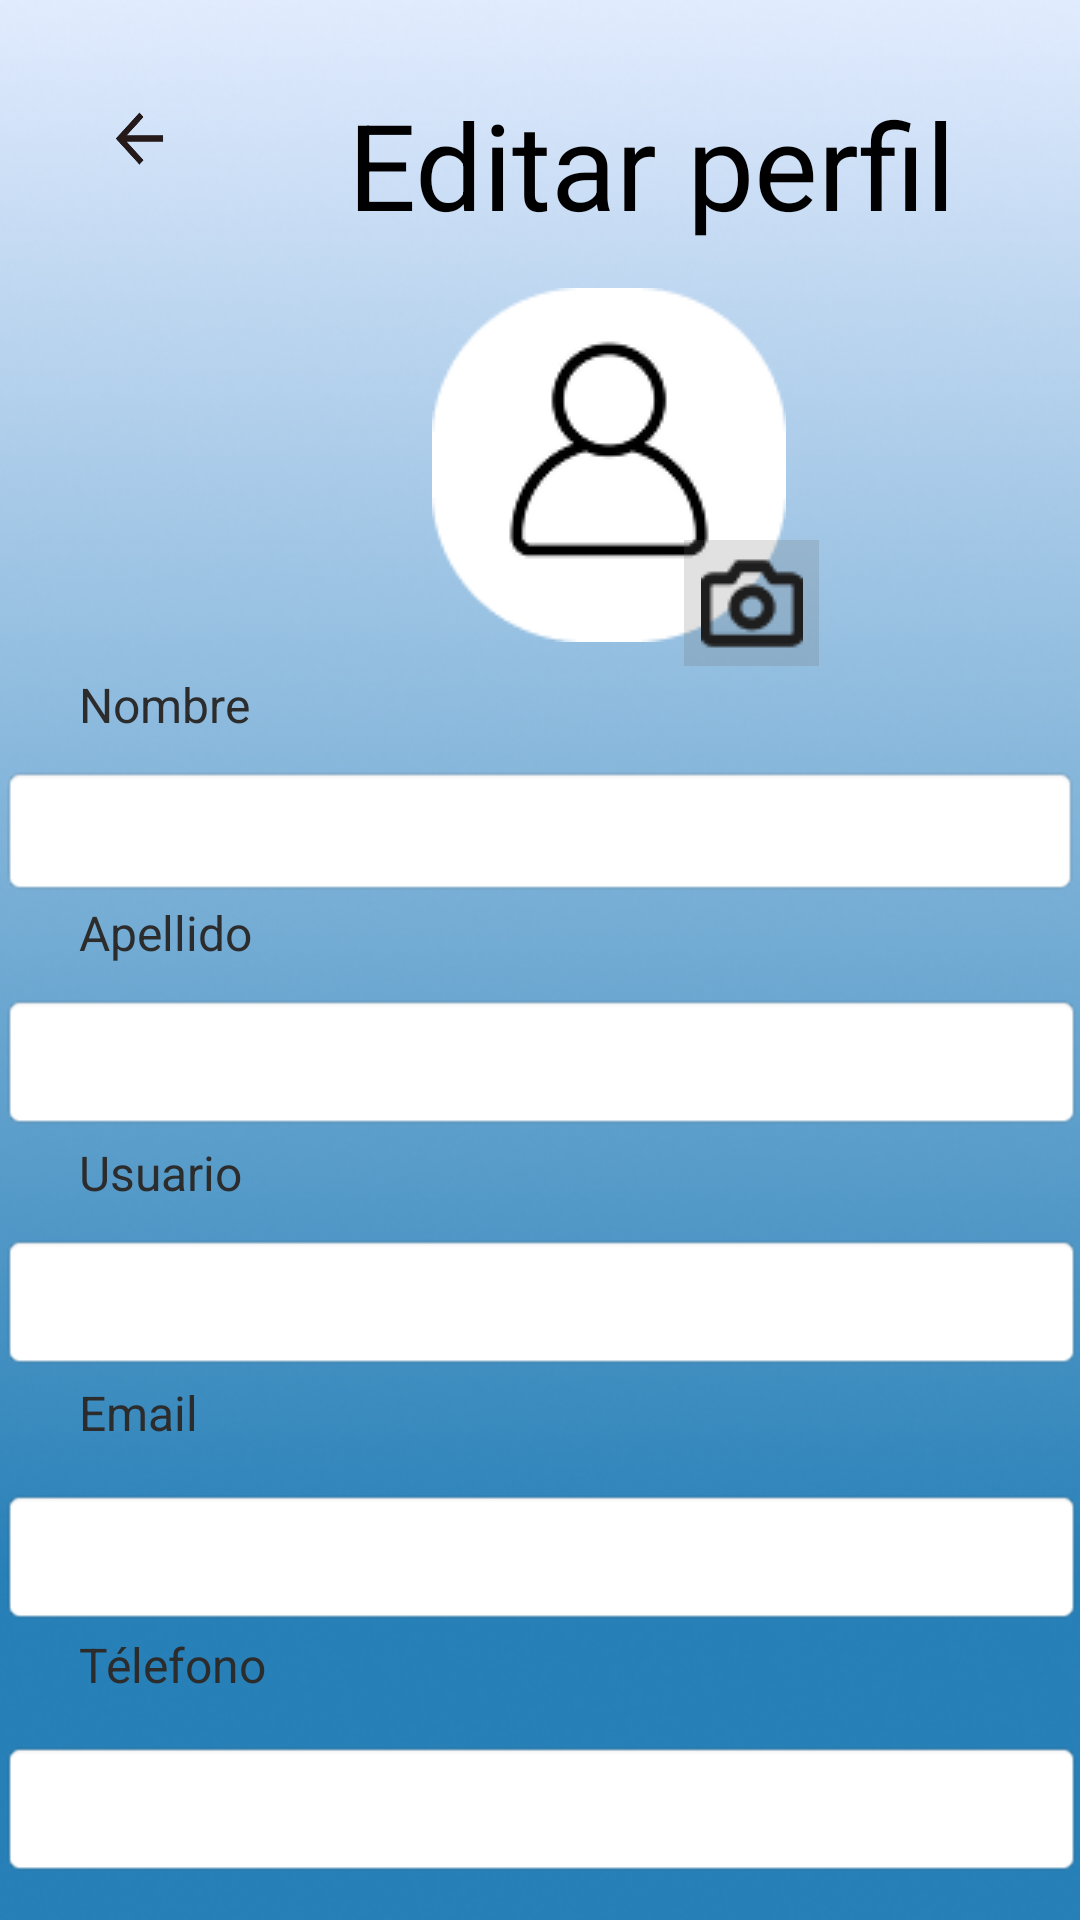

Named icons in this screenshot (1080 × 1920) and their centers, point (x, y):
flecha atras negra: point (139, 138)
